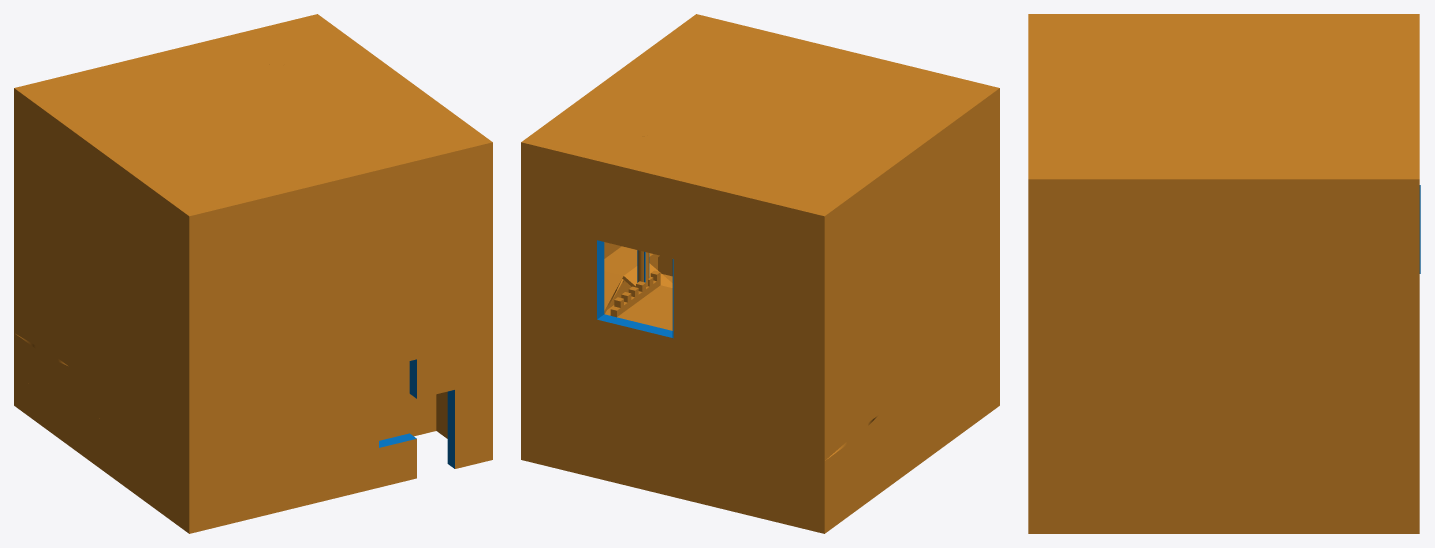
File: LM_Learn_Jump.FBX
The picture shows the model from 3 angles, left to right: view 1: azimuth 30°, elevation 25°; view 2: azimuth 150°, elevation 25°; view 3: azimuth 270°, elevation 25°; orthographic projection. The views are drawn at different scales.
Visible parts, largest first — view 1: LM_Learning_Jump; view 2: LM_Learning_Jump; view 3: LM_Learning_Jump.
Boxes of the visible parts, x1,y1,x2,y2 form: LM_Learning_Jump: [14, 14, 492, 533]; LM_Learning_Jump: [521, 14, 999, 533]; LM_Learning_Jump: [1028, 14, 1420, 533].
Bounding box in the file's own units: 48 × 48 × 48.1.
